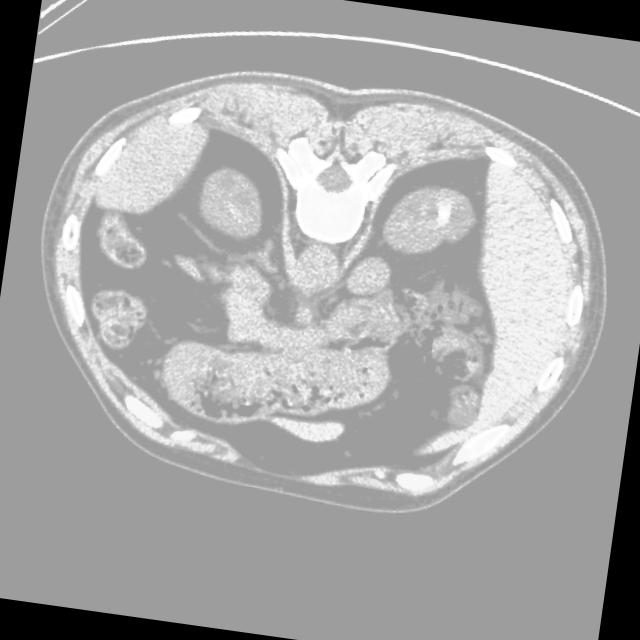STONE: (272, 156, 499, 380)
